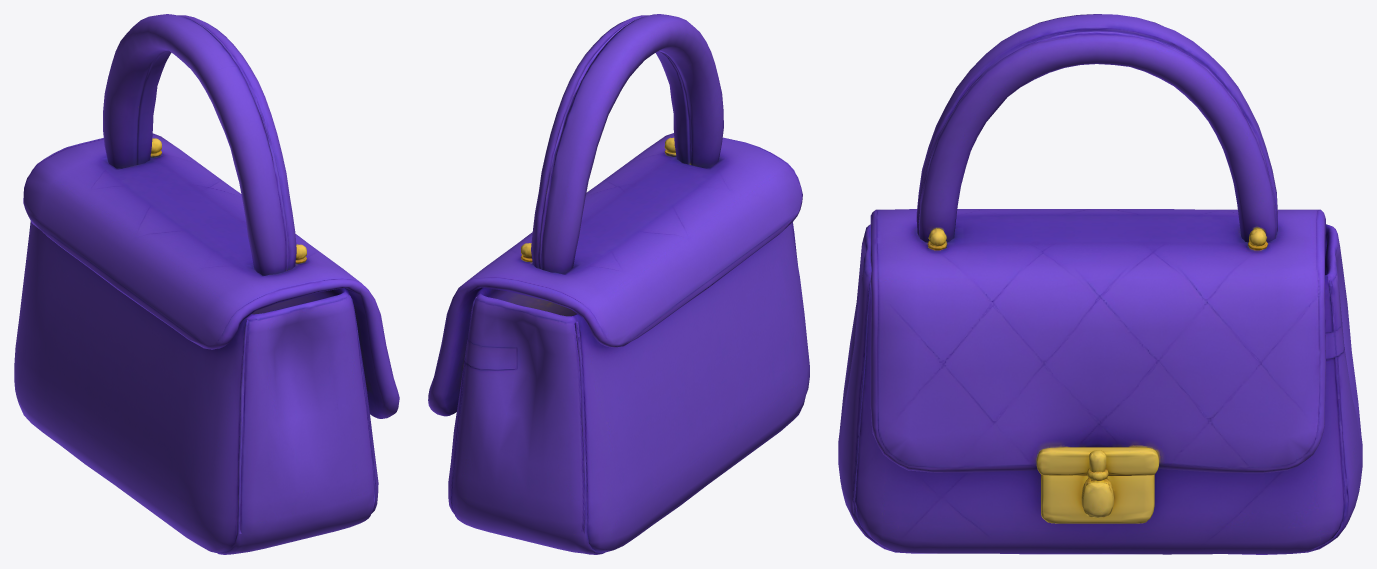
File: r33-handbag.glb
3 views of the same model, side by side, from view 1: azimuth 30°, elevation 25°; view 2: azimuth 150°, elevation 25°; view 3: azimuth 270°, elevation 25° (orthographic). The views are drawn at different scales.
Parts seen in each view (by area): view 1: tripo_node_29a67589-c42f-4bc7-8d4d-229f4e0b73fc; view 2: tripo_node_29a67589-c42f-4bc7-8d4d-229f4e0b73fc; view 3: tripo_node_29a67589-c42f-4bc7-8d4d-229f4e0b73fc.
Boxes of the visible parts, <box> form: tripo_node_29a67589-c42f-4bc7-8d4d-229f4e0b73fc: <box>14,14,399,554</box>; tripo_node_29a67589-c42f-4bc7-8d4d-229f4e0b73fc: <box>428,14,809,554</box>; tripo_node_29a67589-c42f-4bc7-8d4d-229f4e0b73fc: <box>838,14,1362,554</box>.
Size of the model in its own units: 0.5059 by 0.998 by 0.9551.
1 material, 1 textured.
